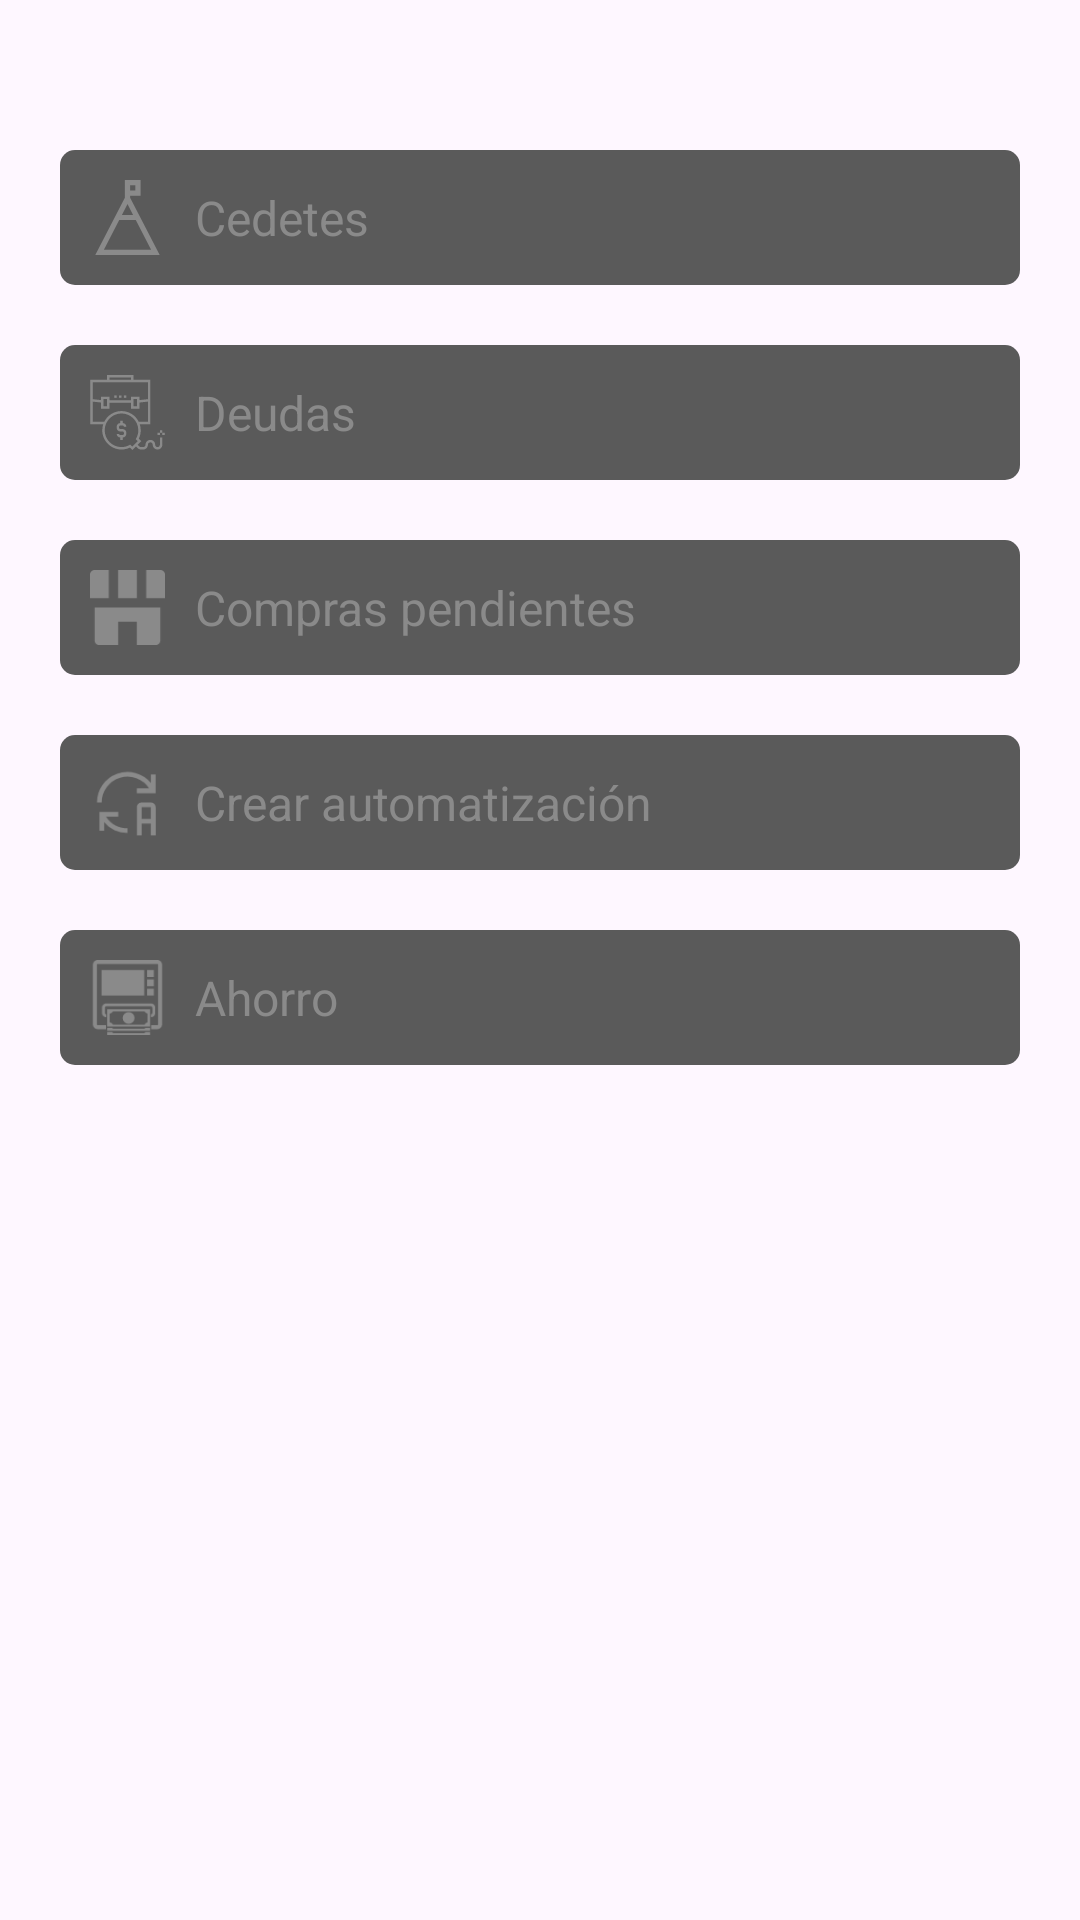

Icon bounding boxes for this 1080 × 1920 phone screenshot, format (x1, y1, x2, y2):
automatic: (97, 772, 156, 835)
debt: (90, 375, 165, 450)
goal: (96, 180, 159, 255)
shop: (90, 570, 165, 645)
